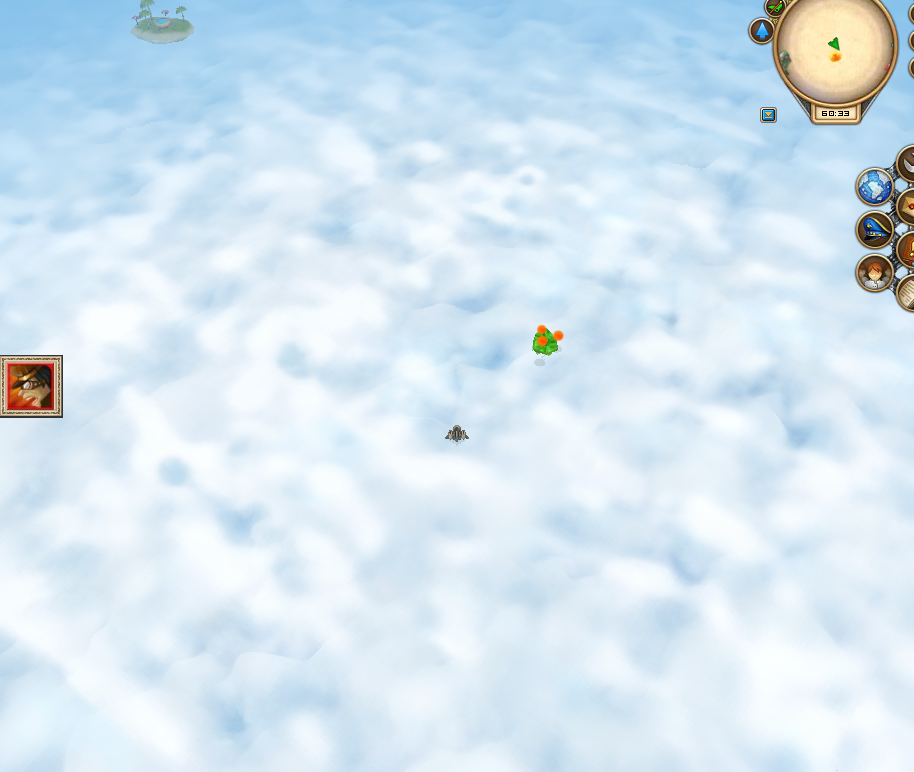dandelion-full: (527, 320, 568, 360)
